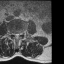CCS_normal: (16, 32, 18, 39)
LFS_normal: (20, 31, 22, 36)
LLS_normal: (18, 32, 20, 38)
RFS_stenosis: (12, 31, 14, 36)
RLS_normal: (14, 32, 16, 38)
